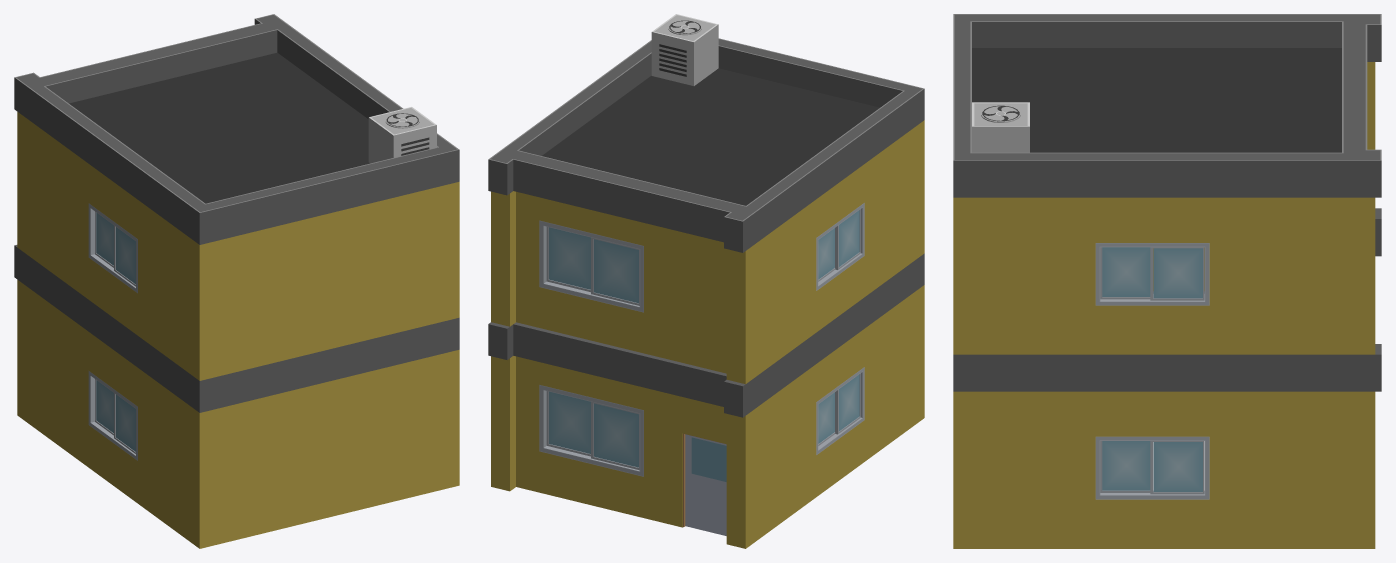
File: Casa_3-Amarilla.FBX
The picture shows the model from 3 angles, left to right: view 1: azimuth 30°, elevation 25°; view 2: azimuth 150°, elevation 25°; view 3: azimuth 270°, elevation 25°; orthographic projection. The views are drawn at different scales.
Parts seen in each view (by area): view 1: Casa, Ventana, Box001; view 2: Casa, Ventana, Box001, Door-2; view 3: Casa, Ventana, Box001.
Boxes of the visible parts, x1,y1,x2,y2 form: Casa: [14, 14, 459, 548]; Ventana: [88, 203, 137, 460]; Box001: [368, 107, 436, 163]; Casa: [488, 38, 924, 548]; Ventana: [539, 203, 864, 476]; Box001: [651, 14, 718, 85]; Door-2: [685, 434, 726, 535]; Casa: [953, 14, 1381, 548]; Ventana: [1095, 243, 1209, 499]; Box001: [972, 102, 1029, 152].
Bounding box in the file's own units: 602 × 742 × 792.
